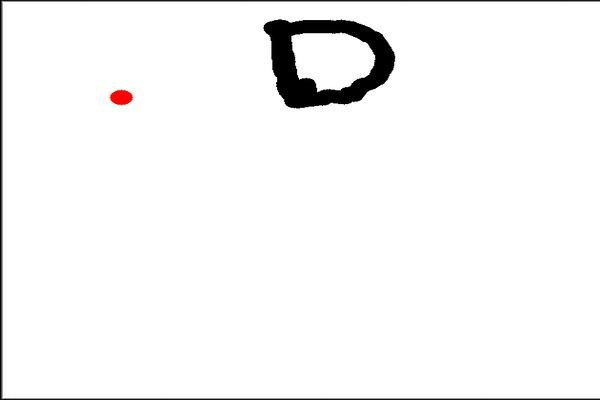D: (259, 10, 401, 116)
